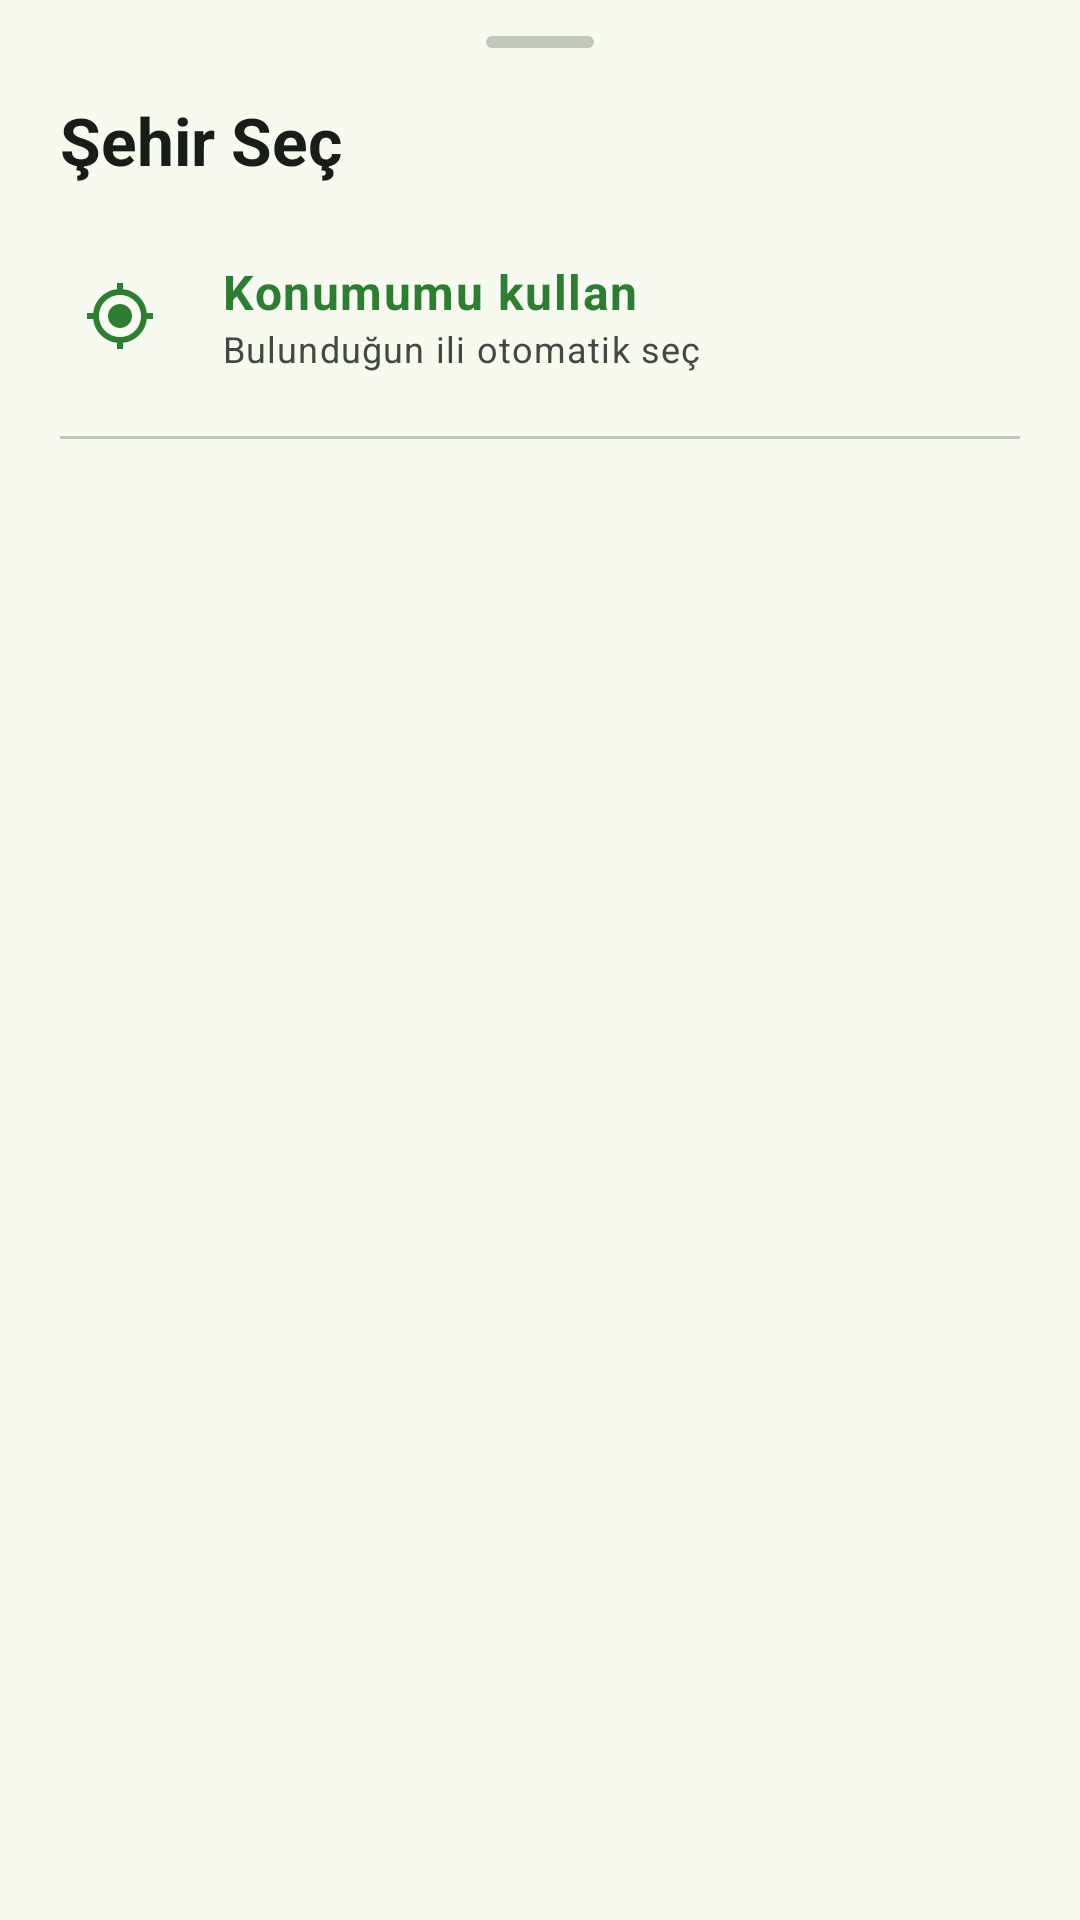

Icon bounding boxes for this 1080 × 1920 phone screenshot, format bbox=(x1, y1, x2, y2):
location: bbox=(87, 283, 153, 349)
